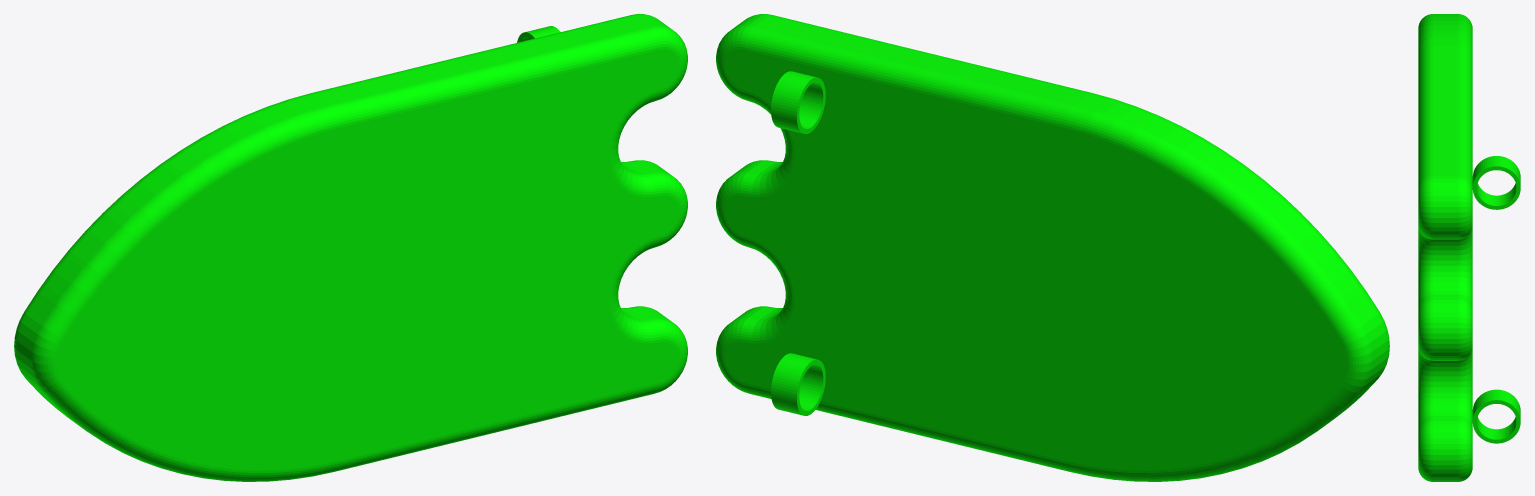
File: balsa.dae
The picture shows the model from 3 angles, left to right: view 1: azimuth 30°, elevation 25°; view 2: azimuth 150°, elevation 25°; view 3: azimuth 270°, elevation 25°; orthographic projection. The views are drawn at different scales.
Parts seen in each view (by area): view 1: node_1918c8c0_5918_410e_a708_32d8102dc699_mesh0; view 2: node_1918c8c0_5918_410e_a708_32d8102dc699_mesh0; view 3: node_1918c8c0_5918_410e_a708_32d8102dc699_mesh0.
Part boxes in pixels (<box>): node_1918c8c0_5918_410e_a708_32d8102dc699_mesh0: <box>14,14,687,481</box>; node_1918c8c0_5918_410e_a708_32d8102dc699_mesh0: <box>716,14,1389,481</box>; node_1918c8c0_5918_410e_a708_32d8102dc699_mesh0: <box>1418,14,1520,481</box>.
Size of the model in its own units: 31.61 by 16.88 by 5.18.
